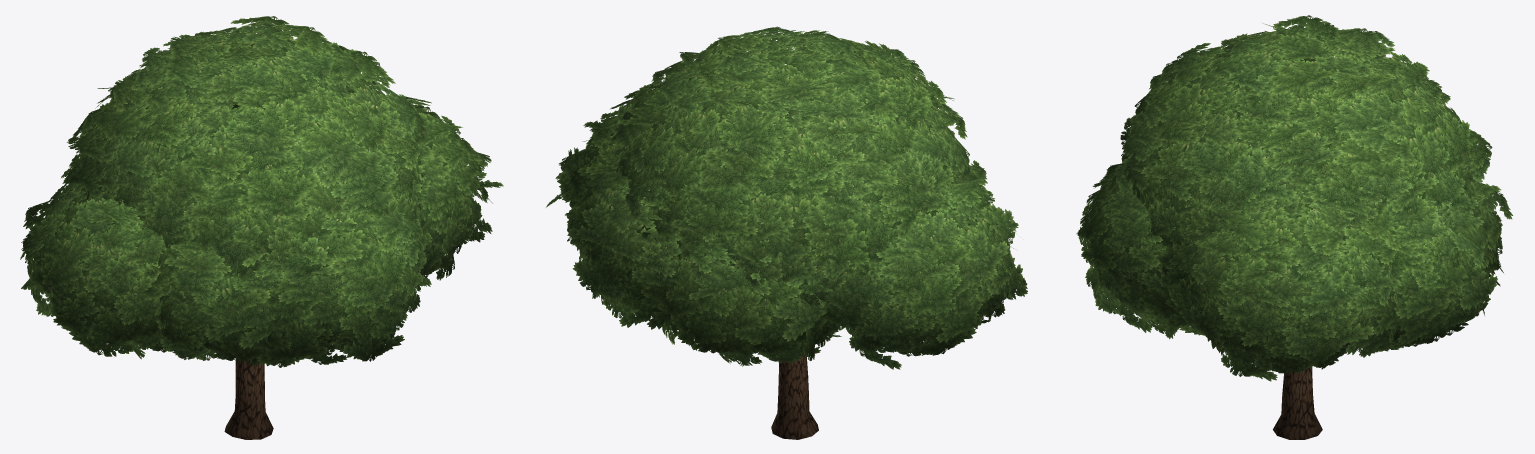
File: broadleaf_b.glb
The picture shows the model from 3 angles, left to right: view 1: azimuth 30°, elevation 25°; view 2: azimuth 150°, elevation 25°; view 3: azimuth 270°, elevation 25°; orthographic projection.
Visible parts, largest first — view 1: leaves, wood; view 2: leaves, wood; view 3: leaves, wood.
Boxes of the visible parts, <box> form: leaves: <box>20,16,503,367</box>; wood: <box>224,357,273,439</box>; leaves: <box>546,26,1027,369</box>; wood: <box>771,348,818,439</box>; leaves: <box>1076,15,1512,381</box>; wood: <box>1273,366,1322,439</box>.
Size of the model in its own units: 11.49 by 9.41 by 9.91.
Materials: 2 (2 with a texture image).
